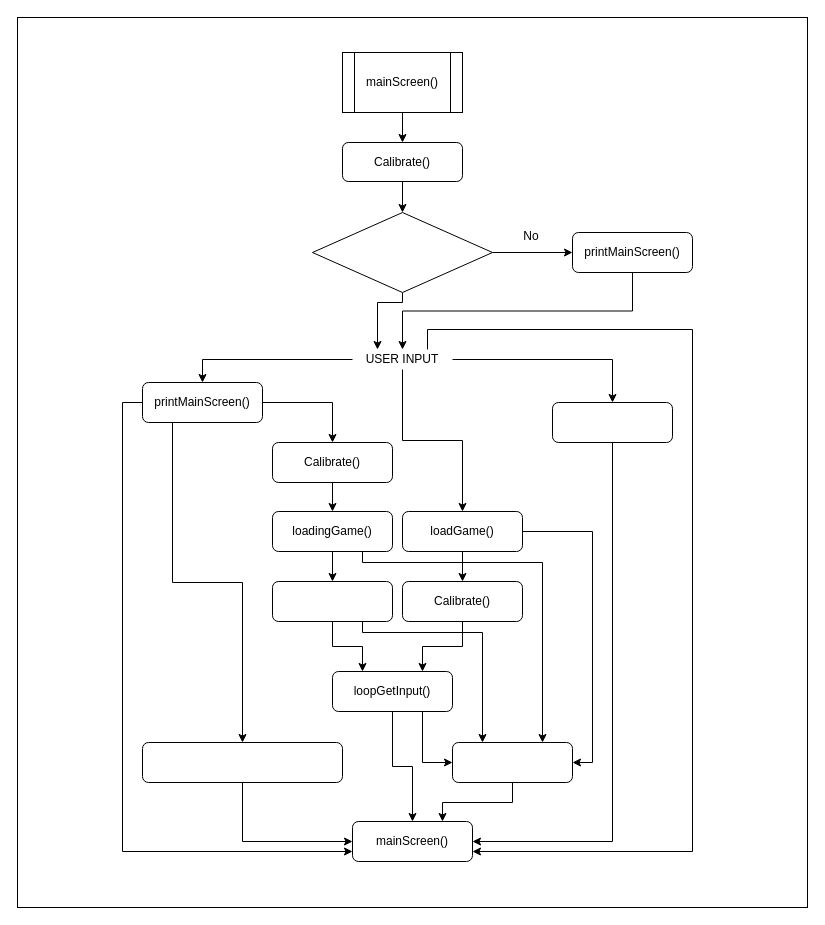
Some shapes in this 825 by 925 pixel diagram are drawn without their labels. Each missing label, with the box of its shape:
generateGame(): (272, 580, 392, 622)
if pastError: (312, 212, 492, 292)
mainError(): (452, 742, 572, 782)
mainKeysError(): (552, 402, 672, 442)
outBoardErrorToggleMessage(): (142, 742, 342, 782)
